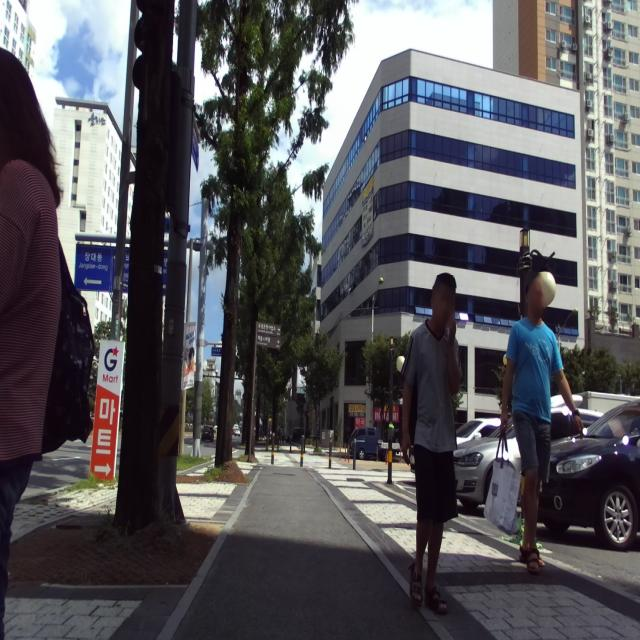횡단보도: (254, 451, 348, 469)
